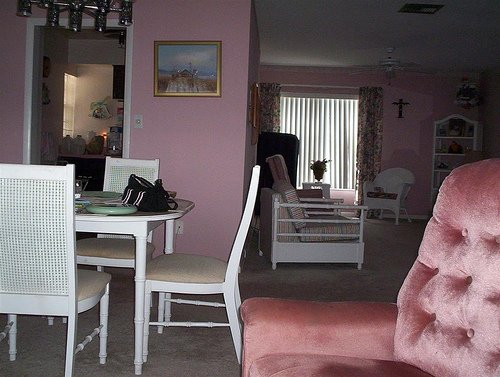chair: (138, 172, 264, 371), (2, 170, 112, 376), (2, 166, 82, 373), (264, 158, 366, 273), (76, 235, 138, 369), (66, 269, 110, 373), (364, 169, 416, 224), (104, 160, 160, 193)
couch: (238, 271, 486, 375), (241, 299, 438, 375)
dining table: (75, 191, 192, 274)
person: (396, 163, 500, 372)
potted plant: (312, 161, 330, 182)
